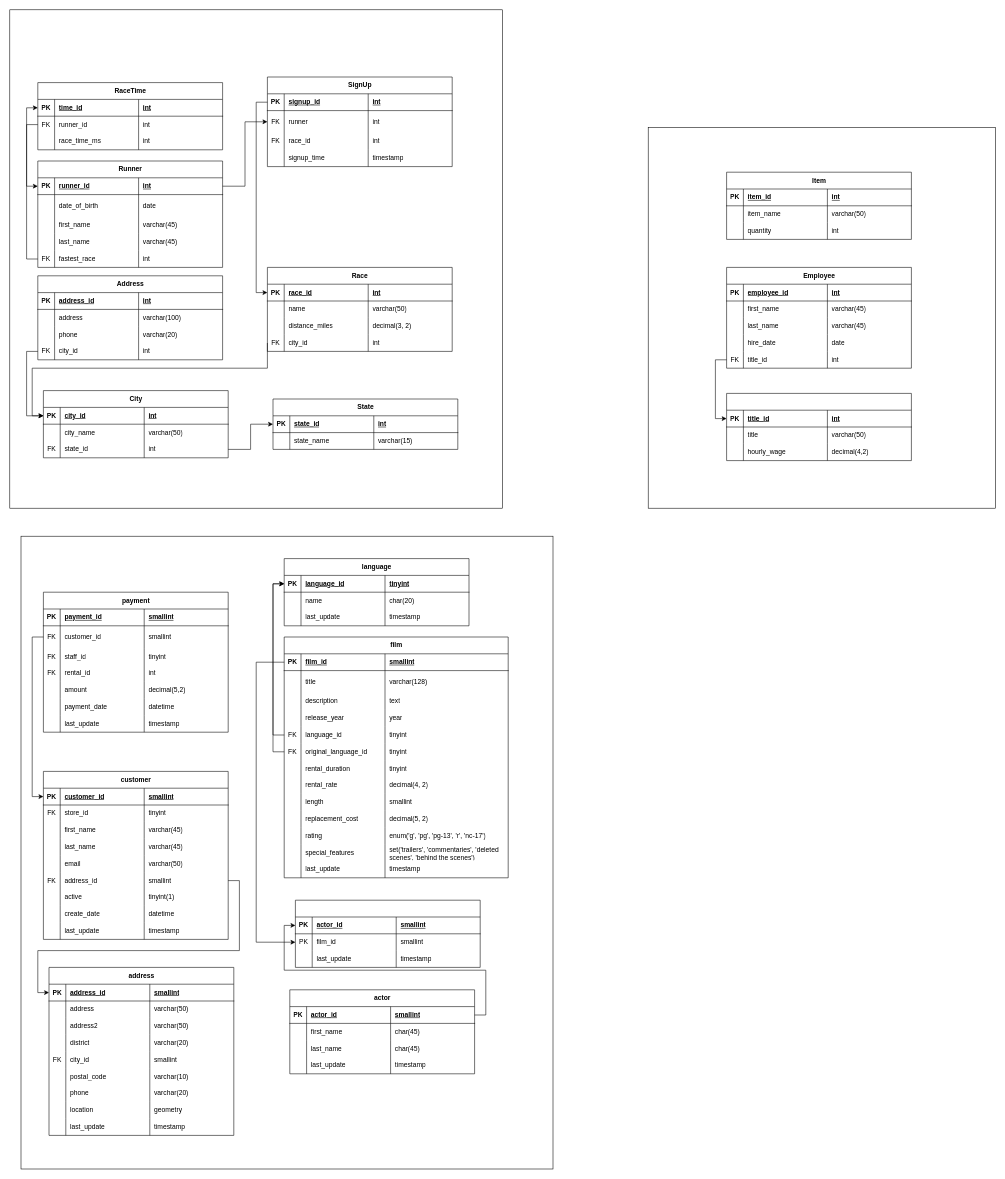
This 1005x1179 diagram has some shape labels left out. The shapes that lost their labels are listed below. From the top down, each one's box as (x1, y1, x2, y2) in pixels, then its label:
(726, 393, 911, 461): Titles
(295, 900, 480, 967): film_actor
